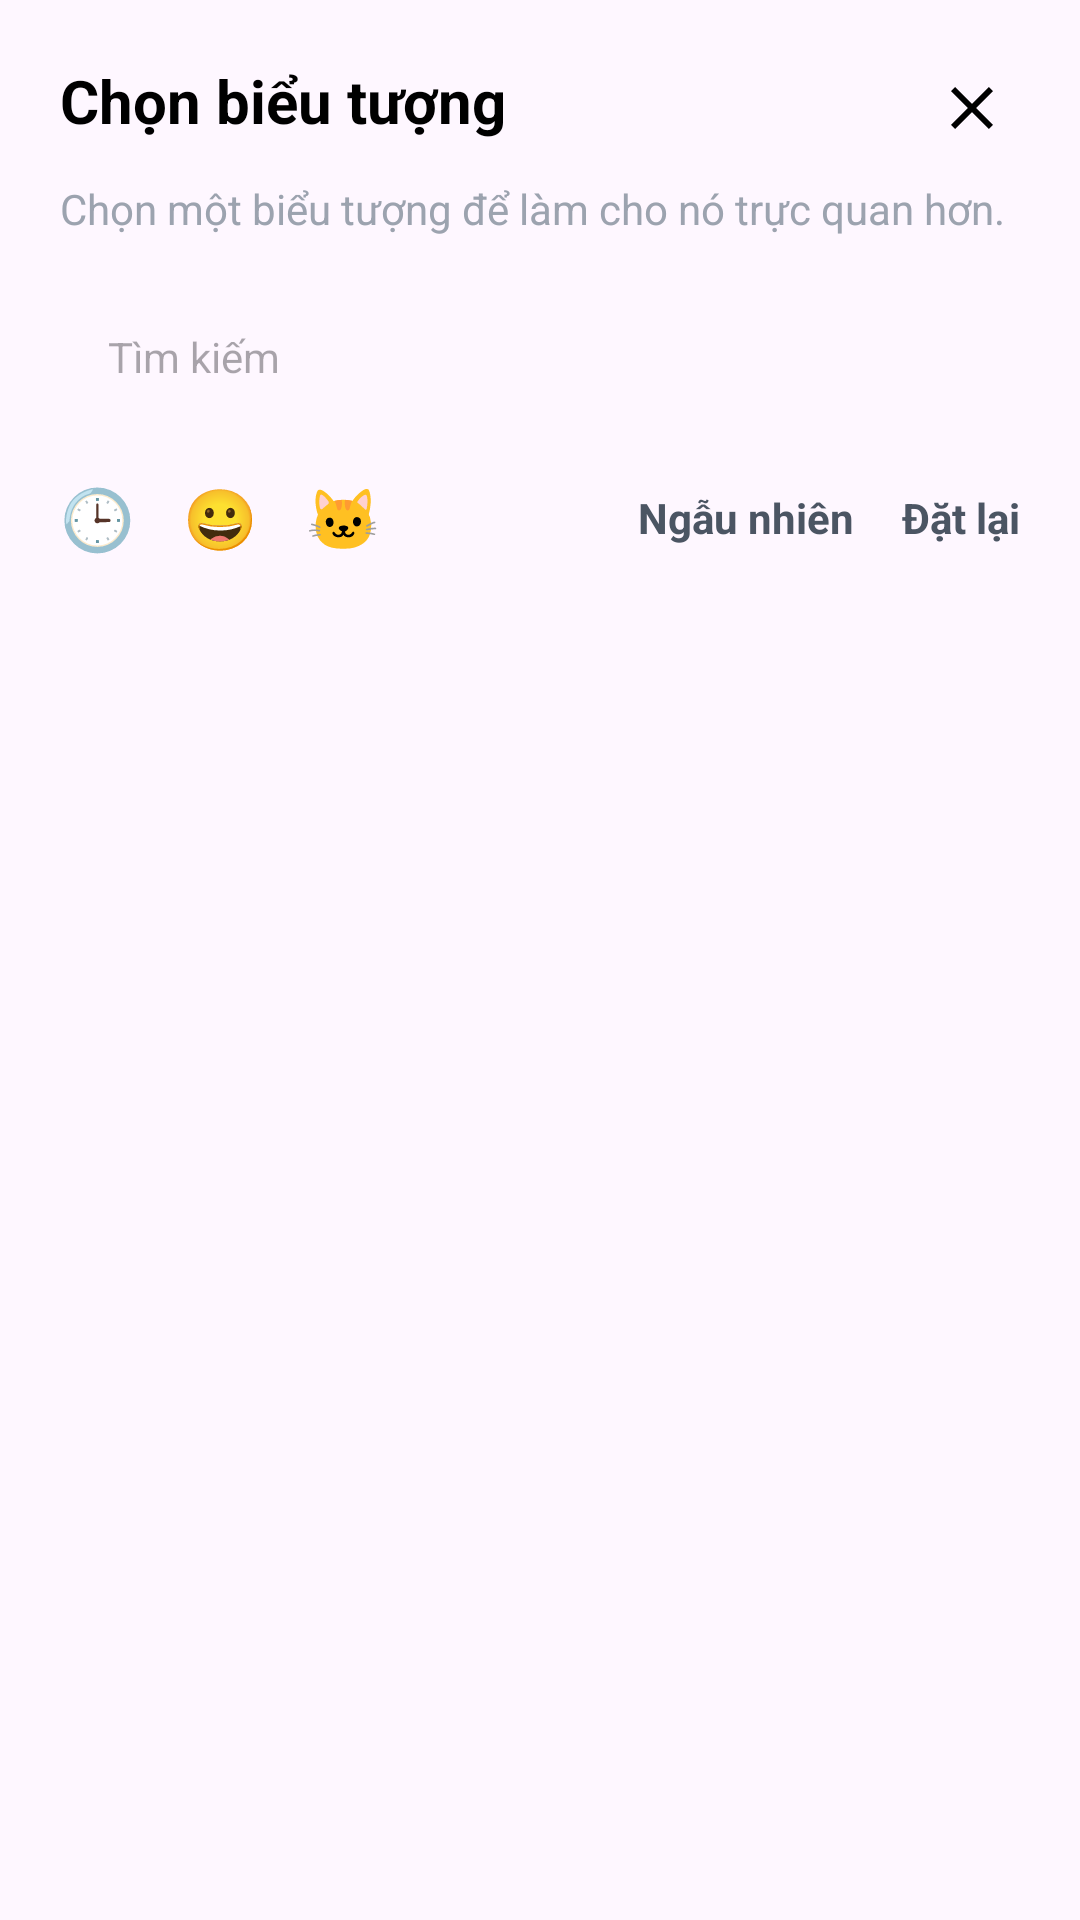

Icons on this 1080w x 1920h Android screen, each with its box as (x1, y1, x2, y2):
clear: (951, 87, 993, 129)
